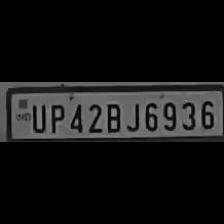2: (85, 100, 103, 132)
3: (178, 98, 196, 130)
4: (66, 100, 86, 132)
6: (196, 98, 216, 130), (140, 99, 158, 131)
9: (160, 98, 178, 130)
B: (104, 100, 122, 132)
J: (124, 98, 140, 132)
P: (46, 100, 64, 132)
U: (28, 101, 46, 133)
